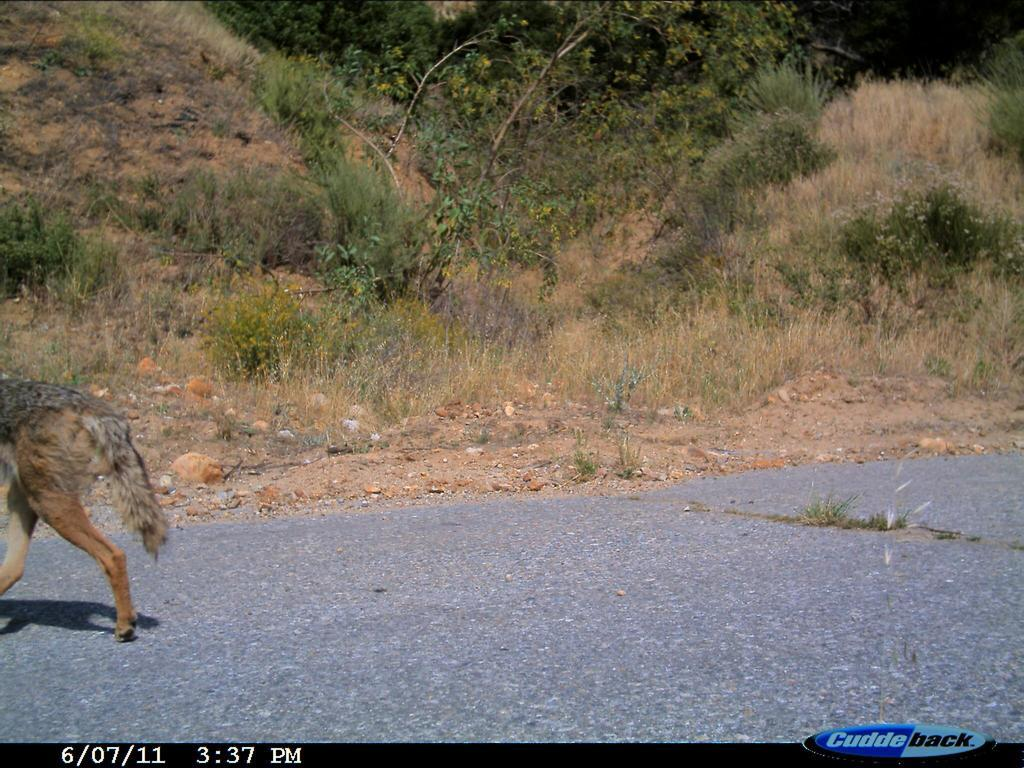coyote: (2, 363, 175, 652)
